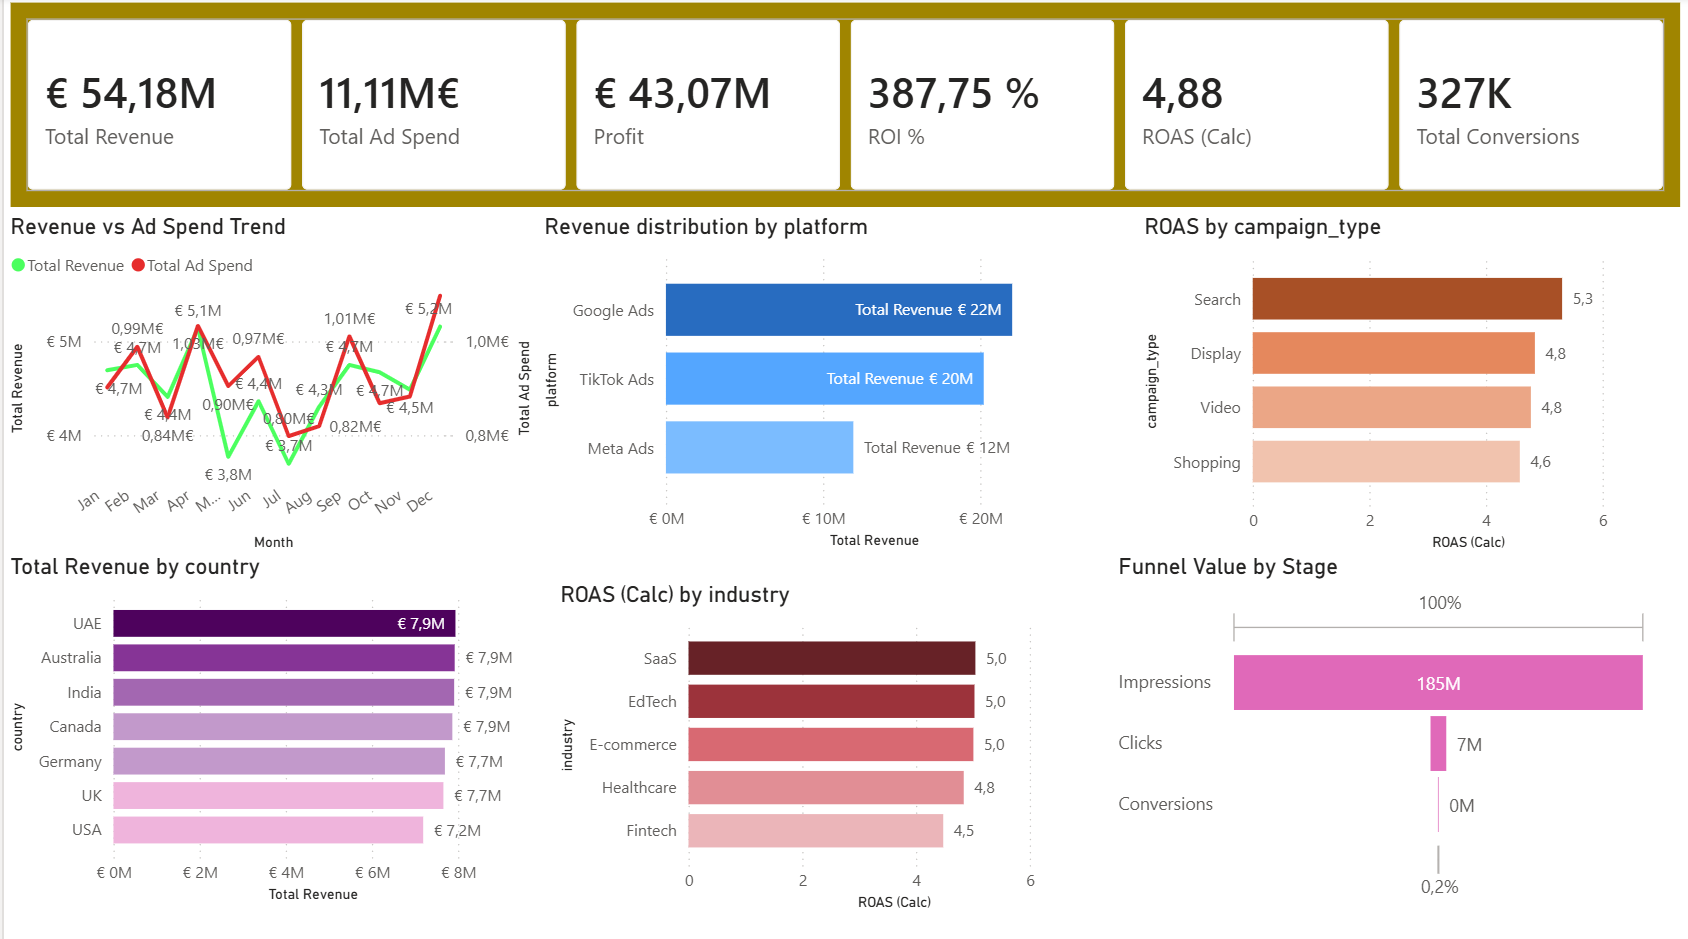

This screenshot's page, from the dashboard's own definition file:
{"tool":"powerbi","page":{"name":"Executive Overview","canvas":[1280,720],"ordinal":0},"visuals":[{"type":"cardVisual","fields":{"Data":["global_ads_performance_dataset.Total Revenue","global_ads_performance_dataset.Total Ad Spend","global_ads_performance_dataset.Profit","global_ads_performance_dataset.ROI %","global_ads_performance_dataset.ROAS (Calc)","global_ads_performance_dataset.Total Conversions"]},"box":[0,0,1280,165.3],"z":0},{"type":"lineChart","title":"Revenue vs Ad Spend Trend","fields":{"Y":["global_ads_performance_dataset.Total Revenue"],"Y2":["global_ads_performance_dataset.Total Ad Spend"],"Category":["global_ads_performance_dataset.Month"]},"box":[0,165.3,404.9,259.3],"z":1000},{"type":"clusteredBarChart","title":"Revenue distribution by platform","fields":{"Category":["global_ads_performance_dataset.platform"],"Y":["global_ads_performance_dataset.Total Revenue"]},"box":[404.9,165.3,435.3,257.8],"z":2000},{"type":"clusteredBarChart","title":"ROAS by campaign_type","fields":{"Category":["global_ads_performance_dataset.campaign_type"],"Y":["global_ads_performance_dataset.ROAS (Calc)"]},"box":[859.9,165.3,423.1,259.3],"z":3000},{"type":"clusteredBarChart","fields":{"Category":["global_ads_performance_dataset.country"],"Y":["global_ads_performance_dataset.Total Revenue"]},"box":[0,423.1,404.9,268.4],"z":4000},{"type":"clusteredBarChart","fields":{"Category":["global_ads_performance_dataset.industry"],"Y":["global_ads_performance_dataset.ROAS (Calc)"]},"box":[417.1,444.4,423.1,253.3],"z":4001},{"type":"funnel","fields":{"Category":["Funnel Steps.Stage"],"Y":["Funnel Steps.Funnel Value"]},"box":[840.2,423.1,412.5,268.4],"z":4002}]}

Visuals, with their boxes in screenshot pixels (x1, y1, x2, y2), scaled from the page's 1280x720 canvas onto the 1688x939 screenshot:
cardVisual - global_ads_performance_dataset.Total Revenue x global_ads_performance_dataset.Total Ad Spend: bbox(0, 0, 1687, 216)
"Revenue vs Ad Spend Trend" lineChart: bbox(0, 216, 534, 554)
"Revenue distribution by platform" clusteredBarChart: bbox(534, 216, 1108, 552)
"ROAS by campaign_type" clusteredBarChart: bbox(1134, 216, 1687, 554)
clusteredBarChart - global_ads_performance_dataset.country x global_ads_performance_dataset.Total Revenue: bbox(0, 552, 534, 902)
clusteredBarChart - global_ads_performance_dataset.industry x global_ads_performance_dataset.ROAS (Calc): bbox(550, 580, 1108, 910)
funnel - Funnel Steps.Stage x Funnel Steps.Funnel Value: bbox(1108, 552, 1652, 902)
